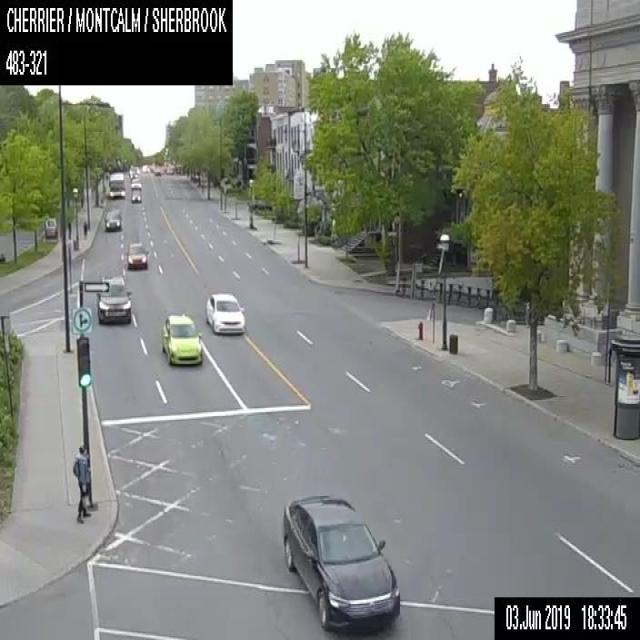bus: (107, 171, 125, 198)
pedestrian: (72, 443, 91, 521), (82, 220, 87, 239)
vehicle: (282, 492, 399, 628), (159, 312, 203, 365), (94, 275, 131, 324), (206, 292, 244, 335), (124, 242, 147, 269), (104, 208, 121, 231), (130, 178, 141, 189), (130, 190, 140, 202), (130, 171, 138, 179), (166, 168, 174, 175), (154, 169, 160, 175)
